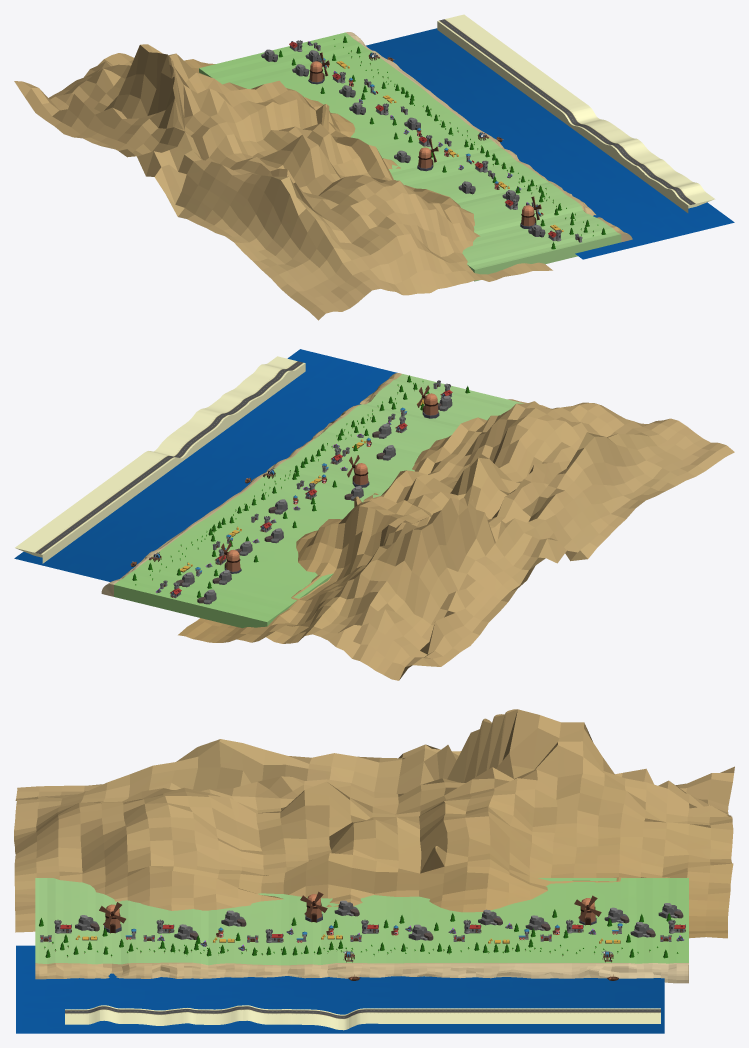
The model's file is village .fbx.
3 renders of one model, top to bottom at view 1: azimuth 30°, elevation 25°; view 2: azimuth 150°, elevation 25°; view 3: azimuth 270°, elevation 25°, orthographic. The views are drawn at different scales.
Visible parts, largest first — view 1: Plane.001, Cube.001, Plane, Cube; view 2: Plane.001, Cube.001, Plane, Cube; view 3: Plane.001, Cube.001, Plane, Cube.
Boxes of the visible parts, <box> form: Plane.001: <box>14,44,552,320</box>; Cube.001: <box>199,32,632,281</box>; Plane: <box>366,28,734,259</box>; Cube: <box>437,14,714,212</box>; Plane.001: <box>178,399,734,680</box>; Cube.001: <box>101,373,523,628</box>; Plane: <box>14,349,397,581</box>; Cube: <box>15,356,305,563</box>; Plane.001: <box>14,709,734,938</box>; Cube.001: <box>35,878,688,983</box>; Plane: <box>16,945,664,1033</box>; Cube: <box>65,1005,660,1030</box>.
Size of the model in its own units: 30140 by 7561 by 37896.
80 materials, 2 textured.
